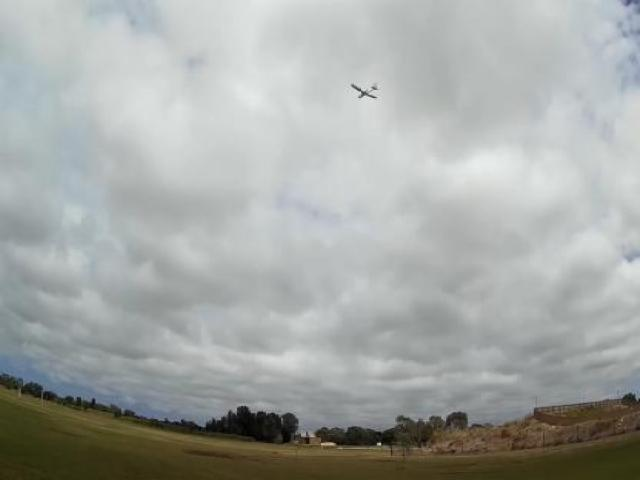uav: (345, 73, 383, 112)
